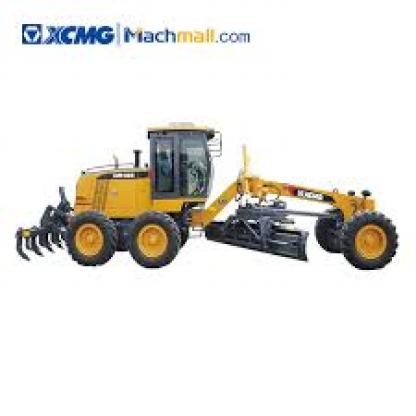bull_dozer/loader/grader: (7, 111, 402, 287)
